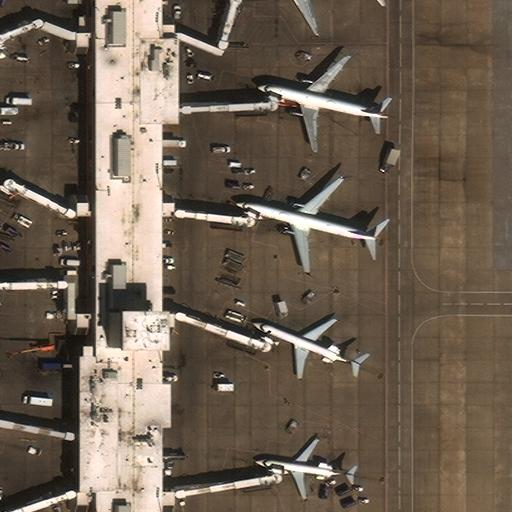Medium Civil Transport: (235, 177, 377, 272), (257, 56, 388, 151), (252, 318, 361, 377), (254, 437, 355, 500), (244, 0, 366, 35)
